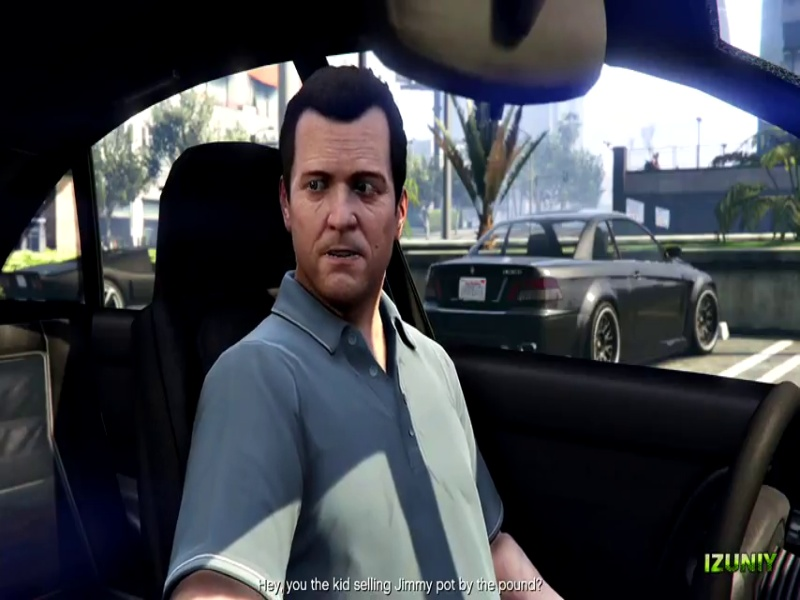human: (142, 68, 528, 599)
